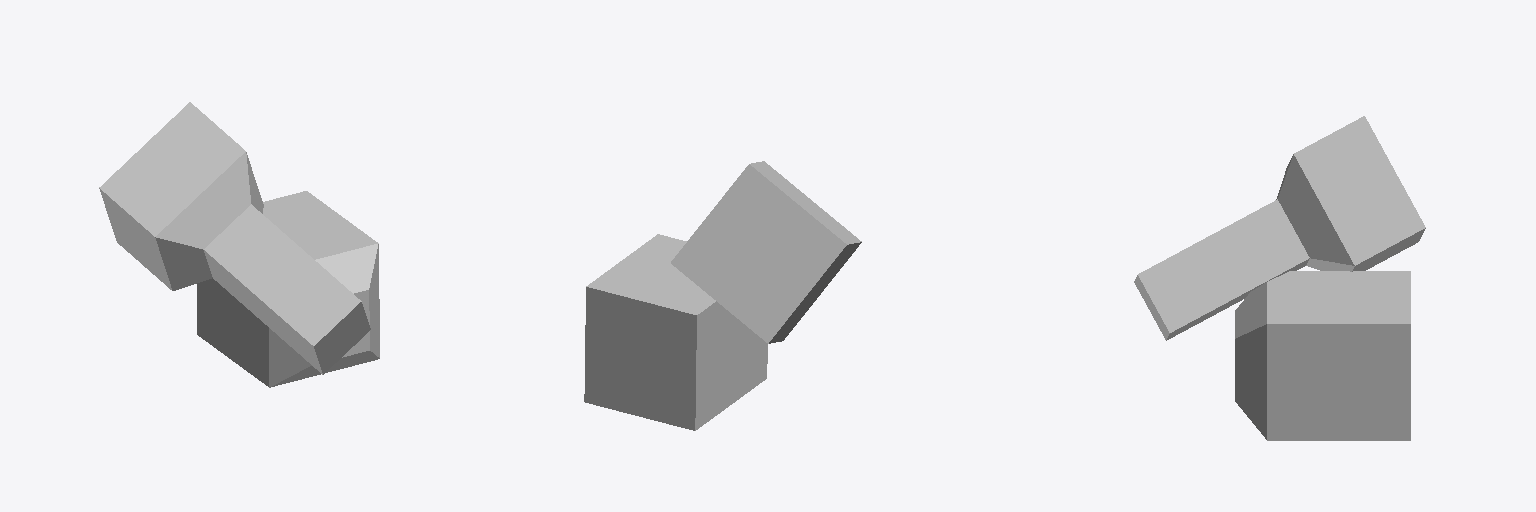
The model's file is column-B-destr_03.obj.
3 renders of one model, left to right at view 1: azimuth 30°, elevation 25°; view 2: azimuth 150°, elevation 25°; view 3: azimuth 270°, elevation 25°, orthographic.
Parts seen in each view (by area): view 1: (null); view 2: (null); view 3: (null).
Boxes of the visible parts, <box> form: (null): <box>99,102,379,387</box>; (null): <box>584,161,861,430</box>; (null): <box>1134,116,1425,440</box>.
Bounding box in the file's own units: 2.65 × 2.77 × 2.84.